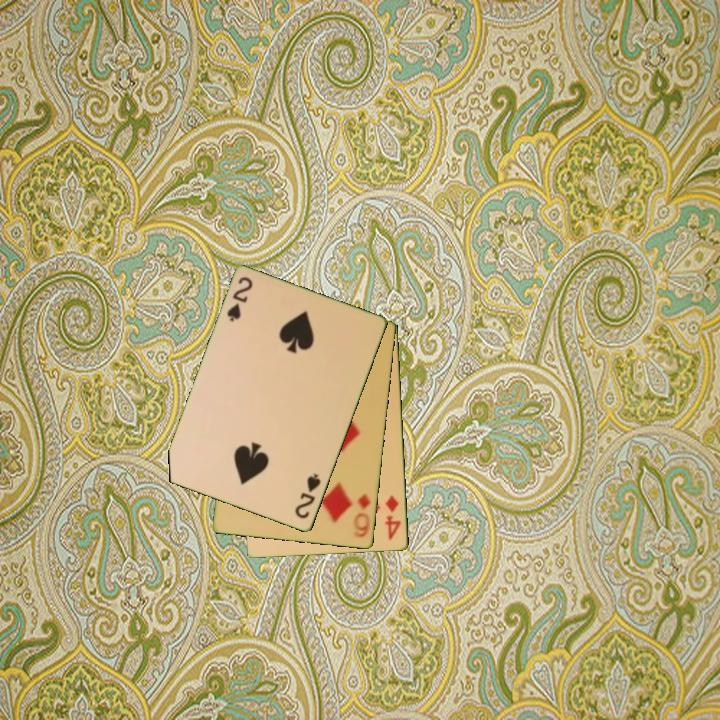2s: (291, 470, 324, 522), (223, 273, 256, 325)
4d: (382, 492, 404, 543)
6d: (350, 491, 373, 540)
